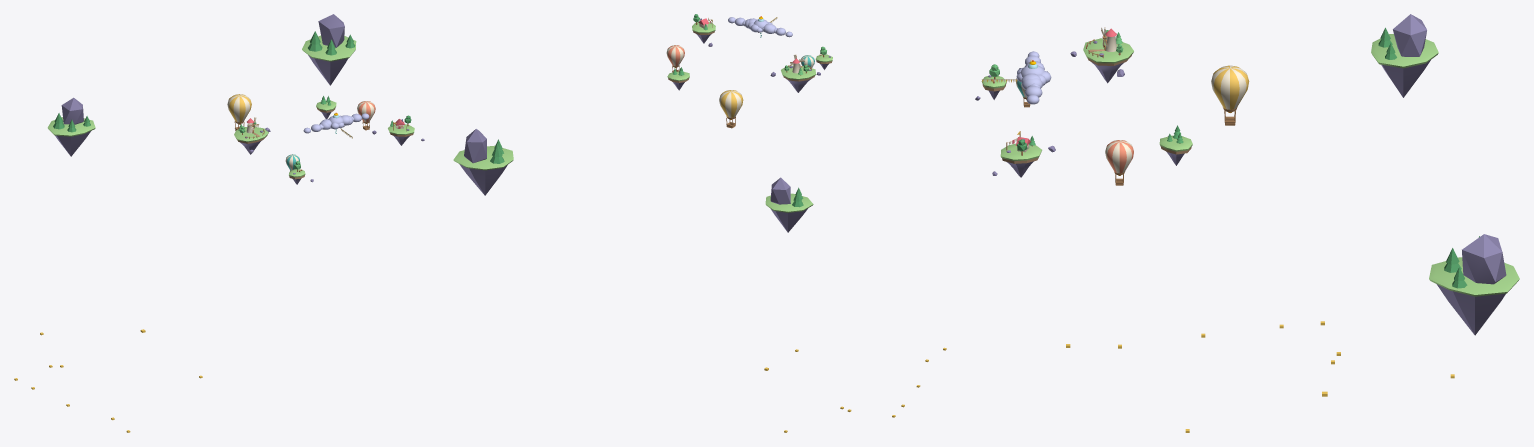
File: brawl.glb
3 renders of one model, left to right at view 1: azimuth 30°, elevation 25°; view 2: azimuth 150°, elevation 25°; view 3: azimuth 270°, elevation 25°, orthographic. The views are drawn at different scales.
Parts seen in each view (by area): view 1: distant, mill_body, balloon_sun_envelope, home_body; view 2: distant, mill_body, balloon_sun_envelope; view 3: distant, mill_body, balloon_sun_envelope, home_body, balloon_warm_envelope, far_body, part_cloud_bank.
Boxes of the visible parts, bbox=[...] form: distant: bbox=[47, 14, 356, 156]; mill_body: bbox=[234, 118, 268, 154]; balloon_sun_envelope: bbox=[227, 94, 251, 122]; home_body: bbox=[388, 115, 414, 145]; distant: bbox=[453, 129, 813, 232]; mill_body: bbox=[781, 58, 815, 92]; balloon_sun_envelope: bbox=[719, 90, 743, 117]; distant: bbox=[1371, 14, 1519, 335]; mill_body: bbox=[1083, 28, 1133, 83]; balloon_sun_envelope: bbox=[1211, 65, 1249, 109]; home_body: bbox=[1000, 131, 1041, 177]; balloon_warm_envelope: bbox=[1105, 140, 1133, 173]; far_body: bbox=[1159, 125, 1192, 165]; part_cloud_bank: bbox=[1022, 51, 1042, 104].
Size of what is drawn, in the model's own units: 117 by 81.29 by 91.2.
